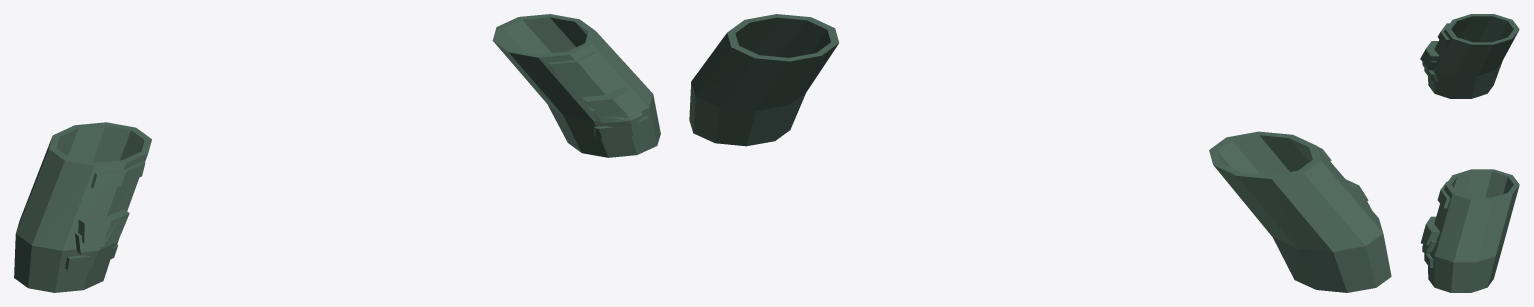
File: leather_wrists-female-scaledHide.glb
3 views of the same model, side by side, from view 1: azimuth 30°, elevation 25°; view 2: azimuth 150°, elevation 25°; view 3: azimuth 270°, elevation 25° (orthographic). The views are drawn at different scales.
Visible parts, largest first — view 1: leather wrist guard -1, leather wrist guard 1, Lapped hide reinforcement leather wrist guard -1 0, Lapped hide reinforcement leather wrist guard 1 0, Bracer rolled upper lip -1, Bracer rolled upper lip 1, Bracer lower fastening strap 1, Bracer lower fastening strap -1, Lapped hide reinforcement leather wrist guard 1 1, Lapped hide reinforcement leather wrist guard -1 1; view 2: leather wrist guard -1, leather wrist guard 1; view 3: leather wrist guard 1, leather wrist guard -1, Lapped hide reinforcement leather wrist guard 1 0, Lapped hide reinforcement leather wrist guard -1 0, Bracer rolled upper lip 1, Bracer rolled upper lip -1, Lapped hide reinforcement leather wrist guard 1 1, Bracer lower fastening strap 1, Bracer lower fastening strap -1, Lapped hide reinforcement leather wrist guard -1 1.
Boxes of the visible parts, x1=… form: leather wrist guard -1: x1=14, y1=122, x2=151, y2=292; leather wrist guard 1: x1=492, y1=14, x2=660, y2=157; Lapped hide reinforcement leather wrist guard -1 0: x1=78, y1=209, x2=129, y2=247; Lapped hide reinforcement leather wrist guard 1 0: x1=581, y1=86, x2=639, y2=119; Bracer rolled upper lip -1: x1=91, y1=161, x2=145, y2=188; Bracer rolled upper lip 1: x1=547, y1=51, x2=605, y2=75; Bracer lower fastening strap 1: x1=593, y1=115, x2=650, y2=138; Bracer lower fastening strap -1: x1=65, y1=244, x2=117, y2=269; Lapped hide reinforcement leather wrist guard 1 1: x1=588, y1=98, x2=642, y2=128; Lapped hide reinforcement leather wrist guard -1 1: x1=75, y1=233, x2=120, y2=257; leather wrist guard -1: x1=1209, y1=131, x2=1391, y2=292; leather wrist guard 1: x1=689, y1=14, x2=838, y2=146; leather wrist guard 1: x1=1428, y1=169, x2=1519, y2=292; leather wrist guard -1: x1=1428, y1=14, x2=1519, y2=98; Lapped hide reinforcement leather wrist guard 1 0: x1=1420, y1=216, x2=1439, y2=244; Lapped hide reinforcement leather wrist guard -1 0: x1=1420, y1=41, x2=1439, y2=63; Bracer rolled upper lip 1: x1=1437, y1=181, x2=1450, y2=208; Bracer rolled upper lip -1: x1=1438, y1=23, x2=1449, y2=45; Lapped hide reinforcement leather wrist guard 1 1: x1=1422, y1=241, x2=1436, y2=253; Bracer lower fastening strap 1: x1=1424, y1=253, x2=1433, y2=267; Bracer lower fastening strap -1: x1=1424, y1=68, x2=1438, y2=81; Lapped hide reinforcement leather wrist guard -1 1: x1=1422, y1=61, x2=1436, y2=70.
Size of the model in its own units: 3.84 by 0.6079 by 0.7281.
